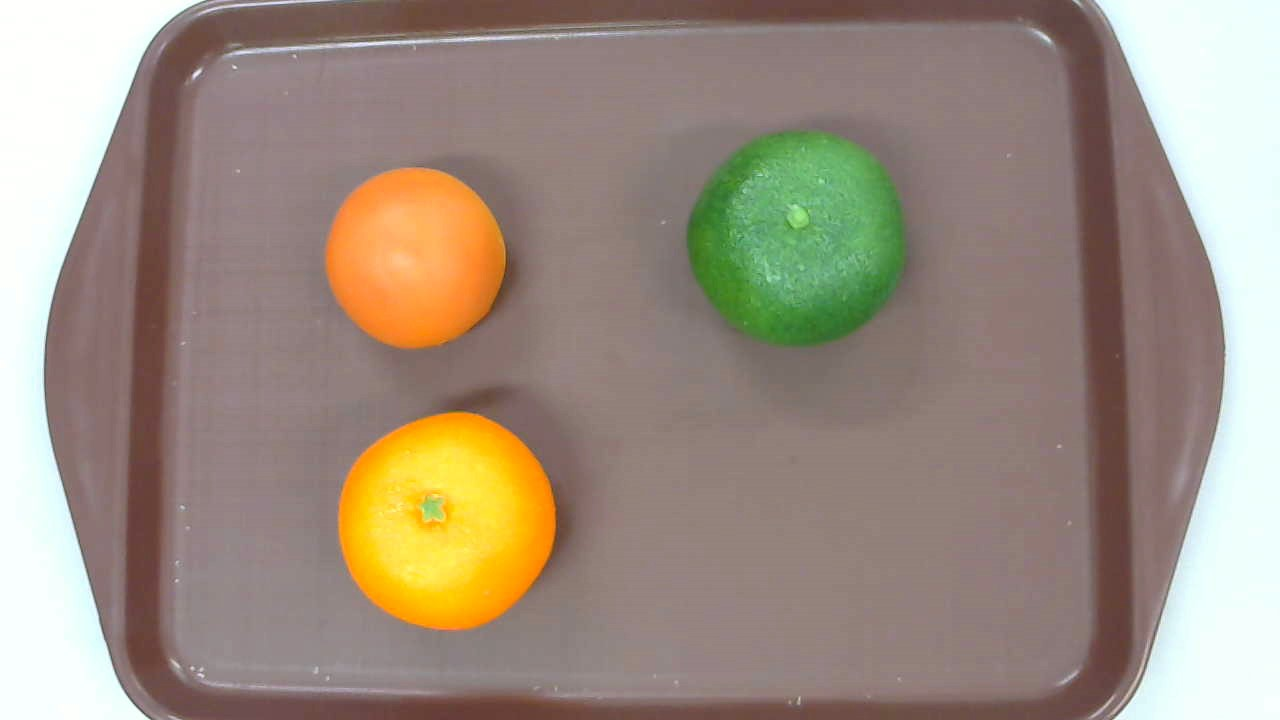bun: (324, 166, 505, 350)
green orange: (685, 127, 907, 347)
orange: (337, 411, 555, 632)
